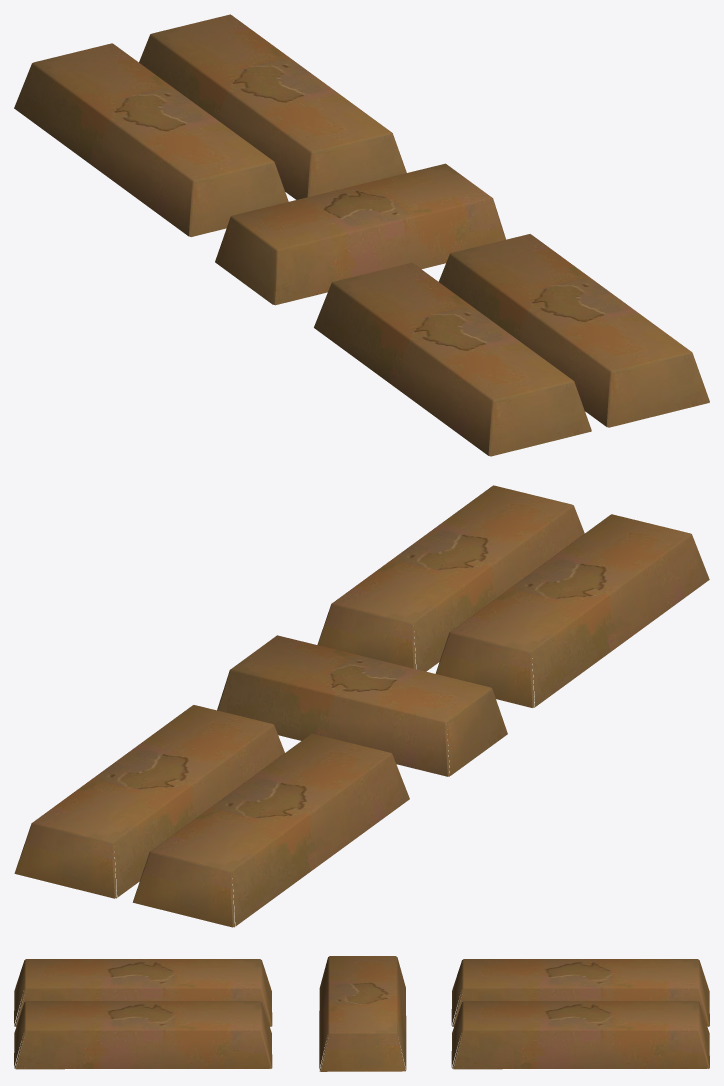
3 views of the same model, one above another, from view 1: azimuth 30°, elevation 25°; view 2: azimuth 150°, elevation 25°; view 3: azimuth 270°, elevation 25° (orthographic). The views are drawn at different scales.
Visible parts, largest first — view 1: body0_model0_lod0_mesh0; view 2: body0_model0_lod0_mesh0; view 3: body0_model0_lod0_mesh0.
Boxes of the visible parts, x1,y1,x2,y2 form: body0_model0_lod0_mesh0: [14, 14, 709, 456]; body0_model0_lod0_mesh0: [14, 485, 709, 927]; body0_model0_lod0_mesh0: [14, 956, 709, 1071].
Bounding box in the file's own units: 30.55 × 6.08 × 107.
Materials: 1 (1 with a texture image).
